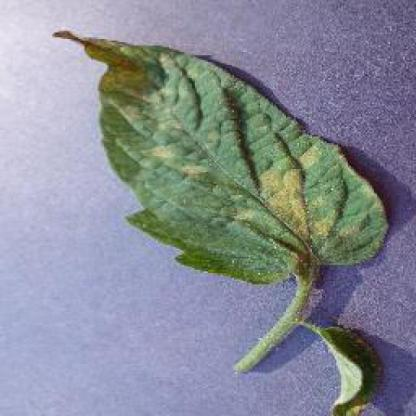Tomato_Leaf_Mold: (50, 28, 390, 283)
